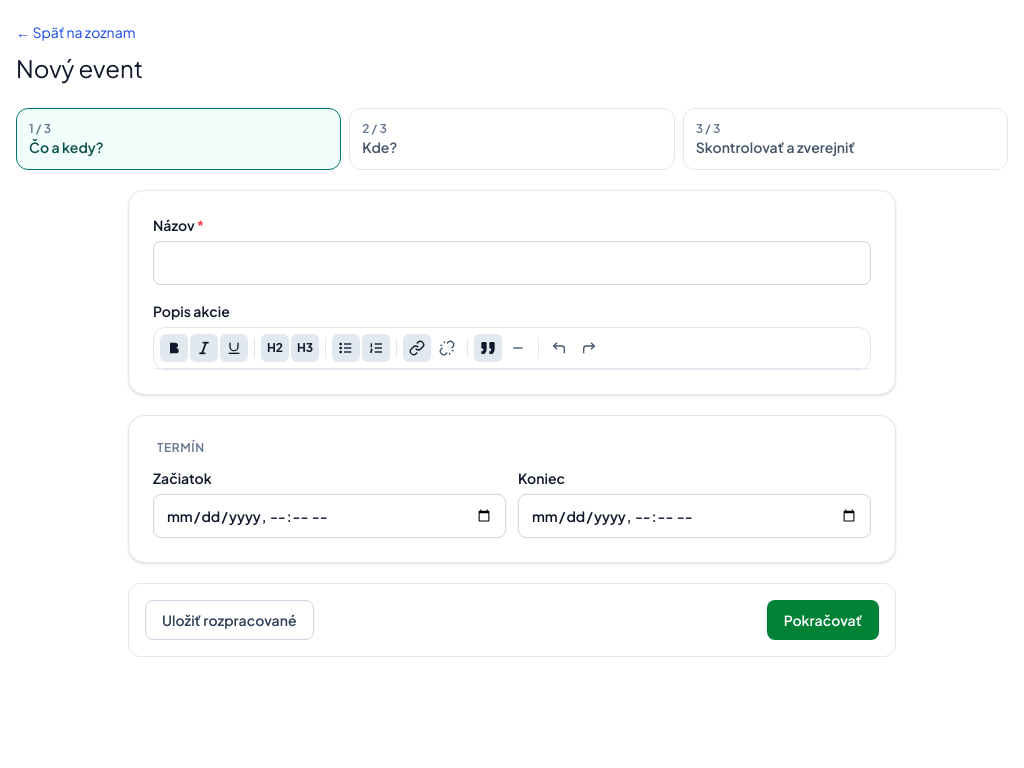
guided event creation › shows the chosen organizer in the review and links back to fill in a missing place
Type "Koncert" into the field labelled "Názov*" at point(512, 263), box left=153, top=241, right=871, bottom=285
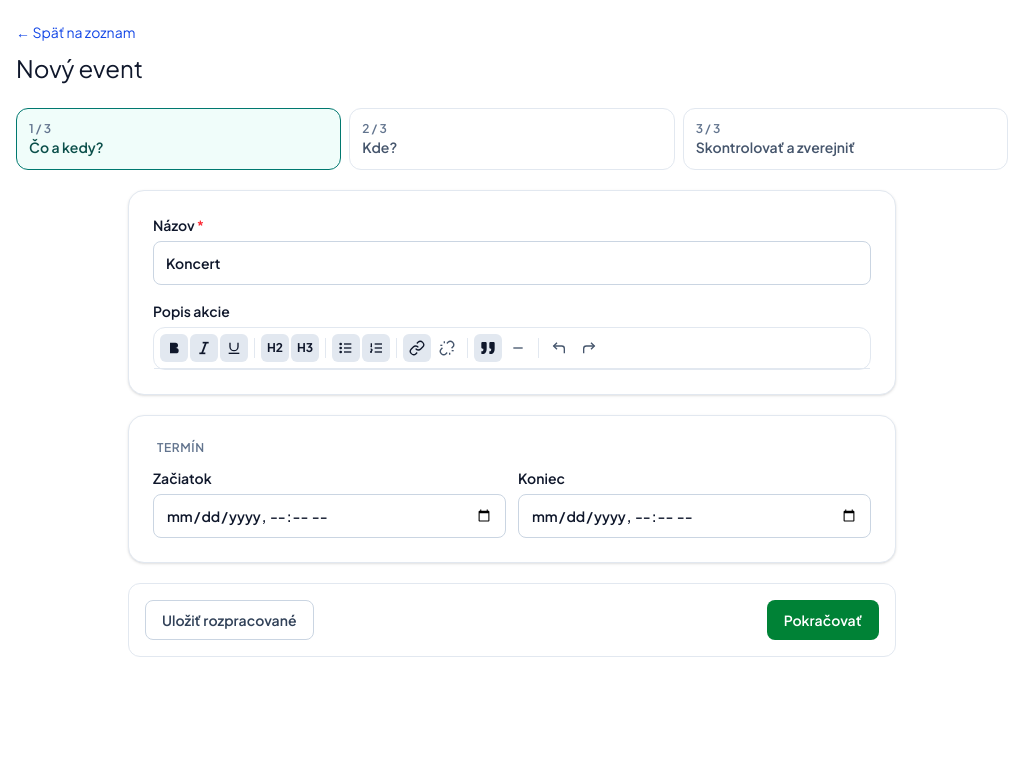
Click the button "Pokračovať" at point(823, 620), box left=767, top=600, right=879, bottom=640
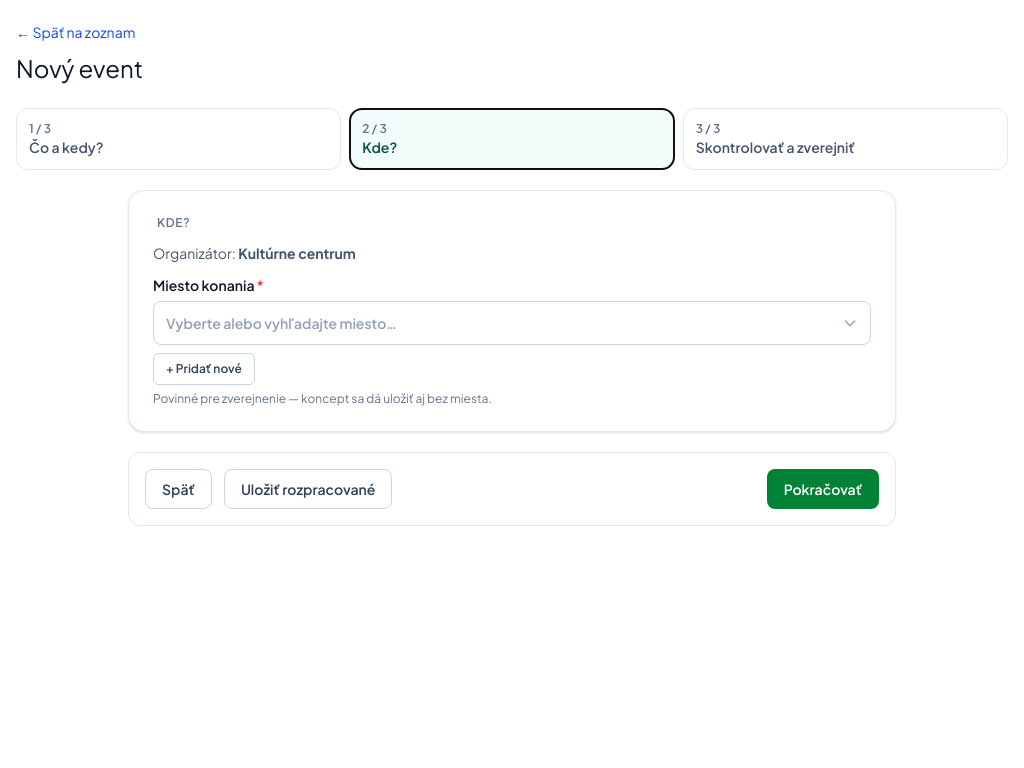
Click the button "Pokračovať" at point(823, 489), box left=767, top=469, right=879, bottom=509
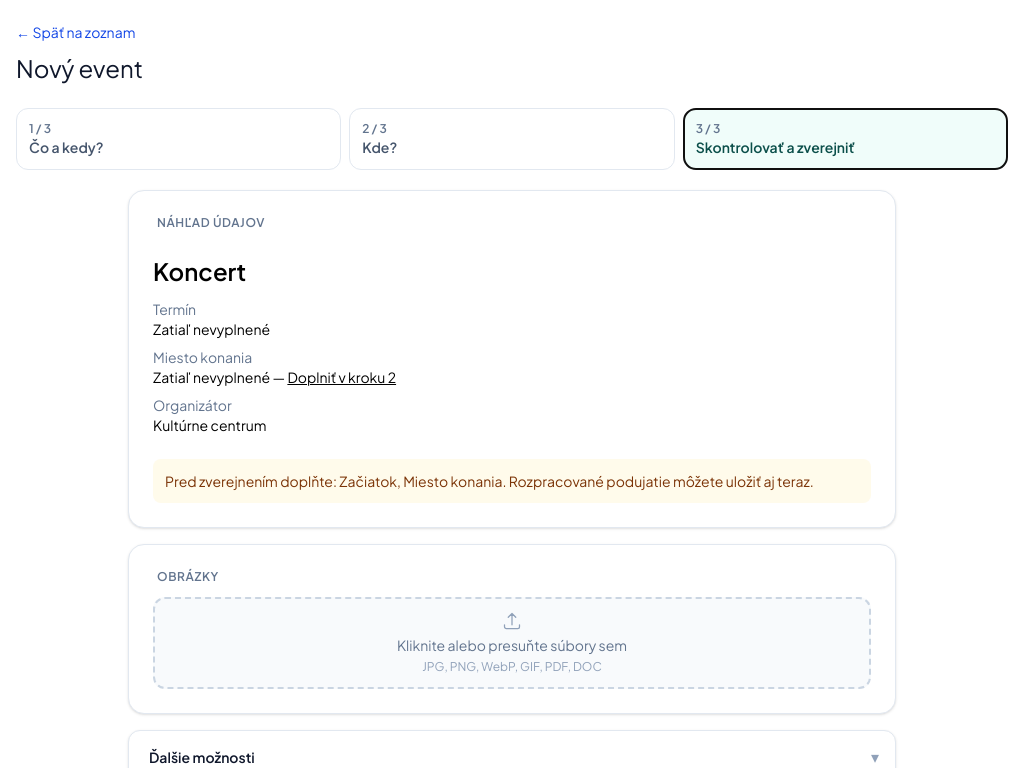
Expected: the element that starts with "Náhľad údajov" shows "Kultúrne centrum", left=153, top=416, right=266, bottom=434
Expected: the button "Doplniť v kroku 2" is shown
Click the button "Doplniť v kroku 2" at point(342, 377), box left=287, top=367, right=396, bottom=387
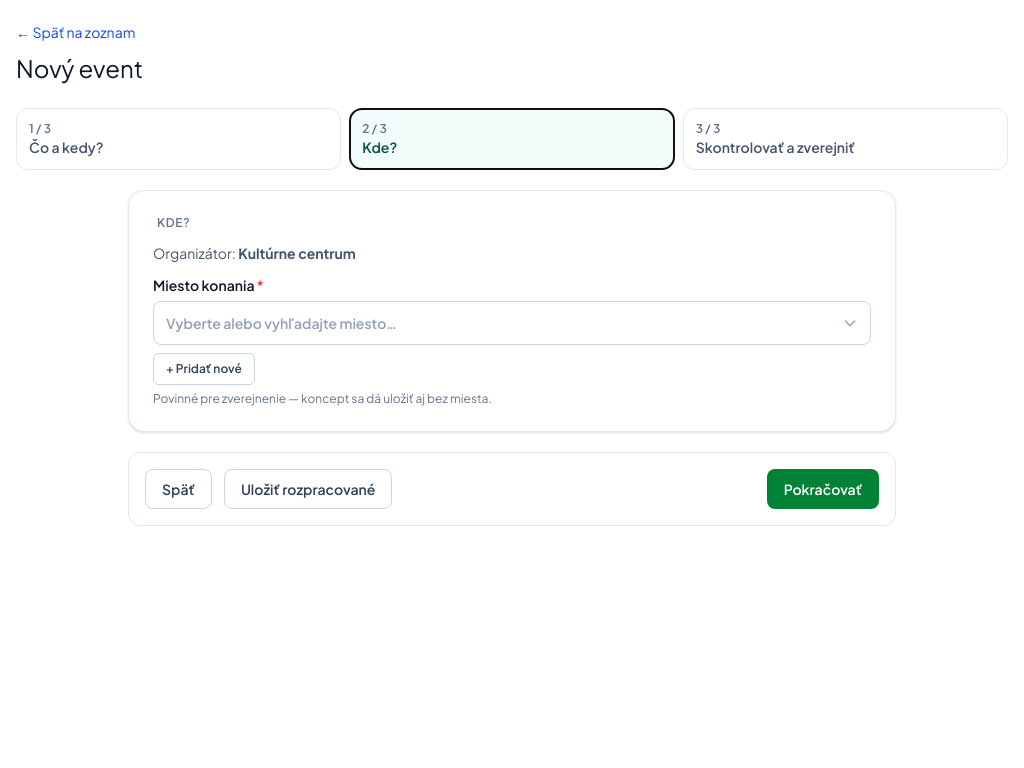
Expected: the text "Povinné pre zverejnenie — koncept sa dá uložiť aj bez miesta." is shown, left=153, top=391, right=492, bottom=406
